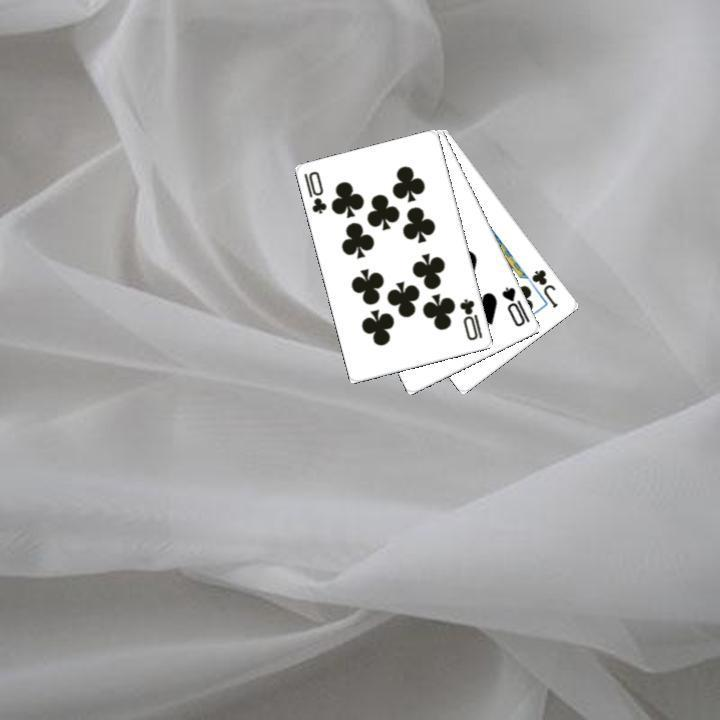10: (498, 282, 532, 329), (456, 294, 485, 343), (300, 167, 329, 216)
J: (527, 265, 560, 310)
